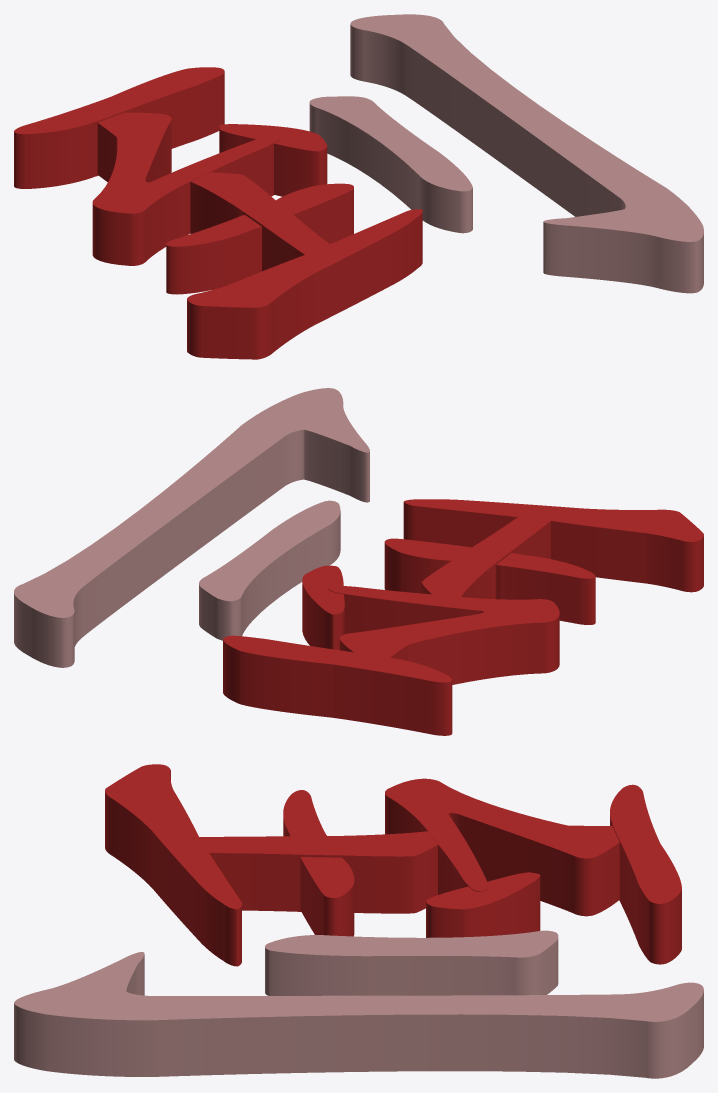
The model's file is hanzi58.fbx.
3 renders of one model, top to bottom at view 1: azimuth 30°, elevation 25°; view 2: azimuth 150°, elevation 25°; view 3: azimuth 270°, elevation 25°, orthographic. The views are drawn at different scales.
Parts seen in each view (by area): view 1: Curve.007, Curve.005, Curve.001, Curve, Curve.006, Curve.003, Curve.004, Curve.002; view 2: Curve.007, Curve.001, Curve, Curve.005, Curve.006, Curve.003, Curve.004, Curve.002; view 3: Curve.007, Curve.001, Curve.006, Curve.004, Curve.005, Curve, Curve.002, Curve.003.
Boxes of the visible parts, <box> form: Curve.007: <box>350,14,703,293</box>; Curve.005: <box>187,209,422,359</box>; Curve.001: <box>92,112,279,265</box>; Curve: <box>14,67,224,188</box>; Curve.006: <box>309,96,472,233</box>; Curve.003: <box>166,183,353,294</box>; Curve.004: <box>190,172,332,271</box>; Curve.002: <box>219,124,327,196</box>; Curve.007: <box>14,388,369,667</box>; Curve.001: <box>328,585,559,684</box>; Curve: <box>223,635,452,735</box>; Curve.005: <box>403,499,703,592</box>; Curve.006: <box>199,500,340,640</box>; Curve.003: <box>384,538,595,624</box>; Curve.004: <box>421,512,552,598</box>; Curve.002: <box>302,565,344,650</box>; Curve.007: <box>14,952,703,1078</box>; Curve.001: <box>385,778,619,916</box>; Curve.006: <box>265,930,558,995</box>; Curve.004: <box>185,831,437,913</box>; Curve.005: <box>105,764,241,966</box>; Curve: <box>610,784,681,964</box>; Curve.002: <box>426,872,540,937</box>; Curve.003: <box>283,790,354,936</box>.
Bounding box in the file's own units: 20.6 × 23.33 × 2.26.
